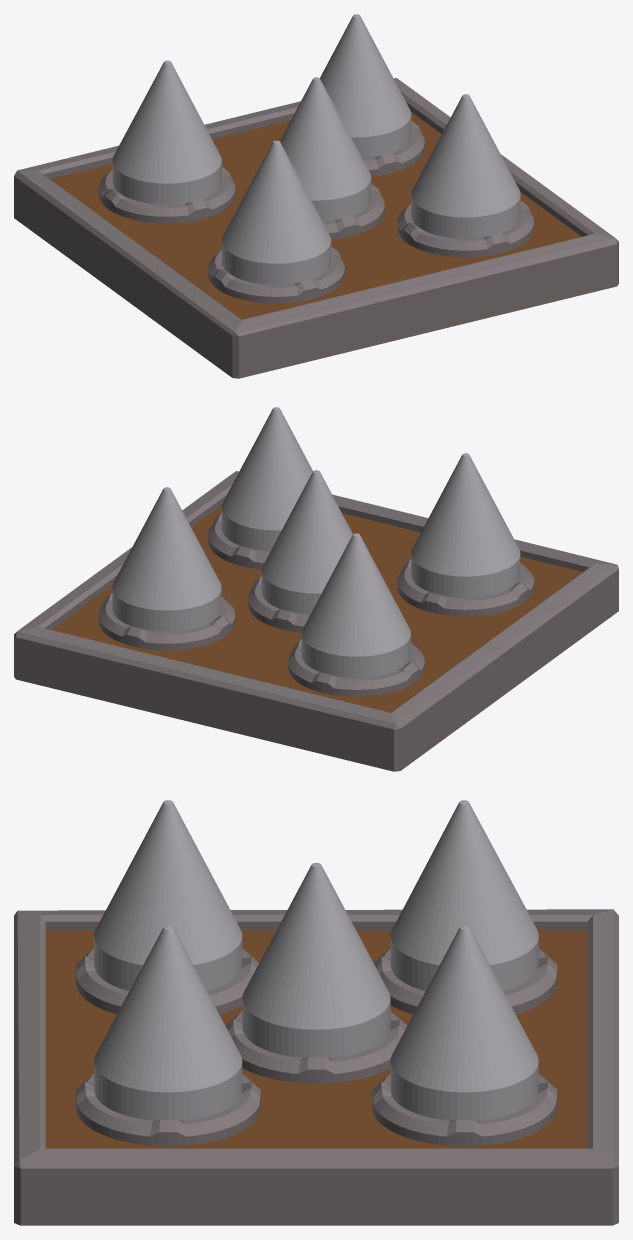
Rendered from SpikesUp.fbx.
3 renders of one model, top to bottom at view 1: azimuth 30°, elevation 25°; view 2: azimuth 150°, elevation 25°; view 3: azimuth 270°, elevation 25°, orthographic. The views are drawn at different scales.
Visible parts, largest first — view 1: Cube; view 2: Cube; view 3: Cube.
Boxes of the visible parts, x1,y1,x2,y2 form: Cube: [14, 14, 618, 378]; Cube: [14, 407, 618, 771]; Cube: [14, 800, 618, 1225].
Bounding box in the file's own units: 8.17 × 3.48 × 8.17.
